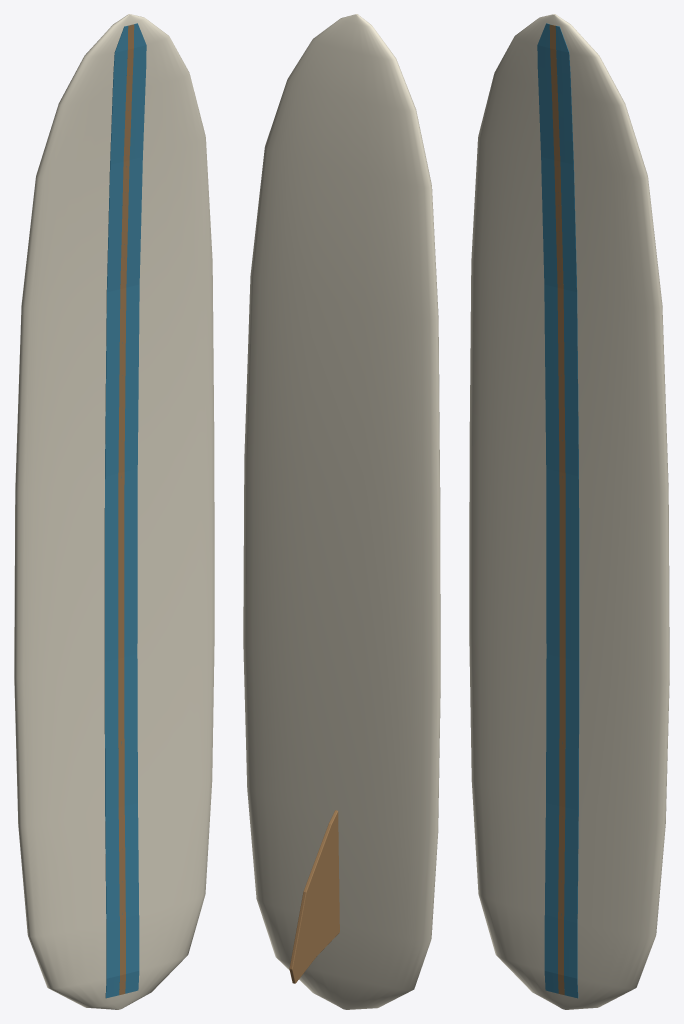
File: surfboard_longboard.glb
3 views of the same model, side by side, from view 1: azimuth 30°, elevation 25°; view 2: azimuth 150°, elevation 25°; view 3: azimuth 330°, elevation 25° (orthographic).
Visible parts, largest first — view 1: Longboard_Closed_Rocker_Body, Longboard_Central_Blue_Panel, Longboard_Narrow_Wood_Stringer; view 2: Longboard_Closed_Rocker_Body, Longboard_Attached_Single_Fin; view 3: Longboard_Closed_Rocker_Body, Longboard_Central_Blue_Panel, Longboard_Narrow_Wood_Stringer.
Part boxes in pixels (left/top/right/bottom): Longboard_Closed_Rocker_Body: left=14, top=14, right=214, bottom=1009; Longboard_Central_Blue_Panel: left=104, top=23, right=146, bottom=998; Longboard_Narrow_Wood_Stringer: left=118, top=24, right=134, bottom=994; Longboard_Closed_Rocker_Body: left=243, top=14, right=440, bottom=1009; Longboard_Attached_Single_Fin: left=289, top=810, right=339, bottom=983; Longboard_Closed_Rocker_Body: left=469, top=14, right=669, bottom=1009; Longboard_Central_Blue_Panel: left=537, top=23, right=579, bottom=998; Longboard_Narrow_Wood_Stringer: left=549, top=24, right=565, bottom=994.
Size of the model in its own units: 0.564 by 2.7 by 0.3359.
